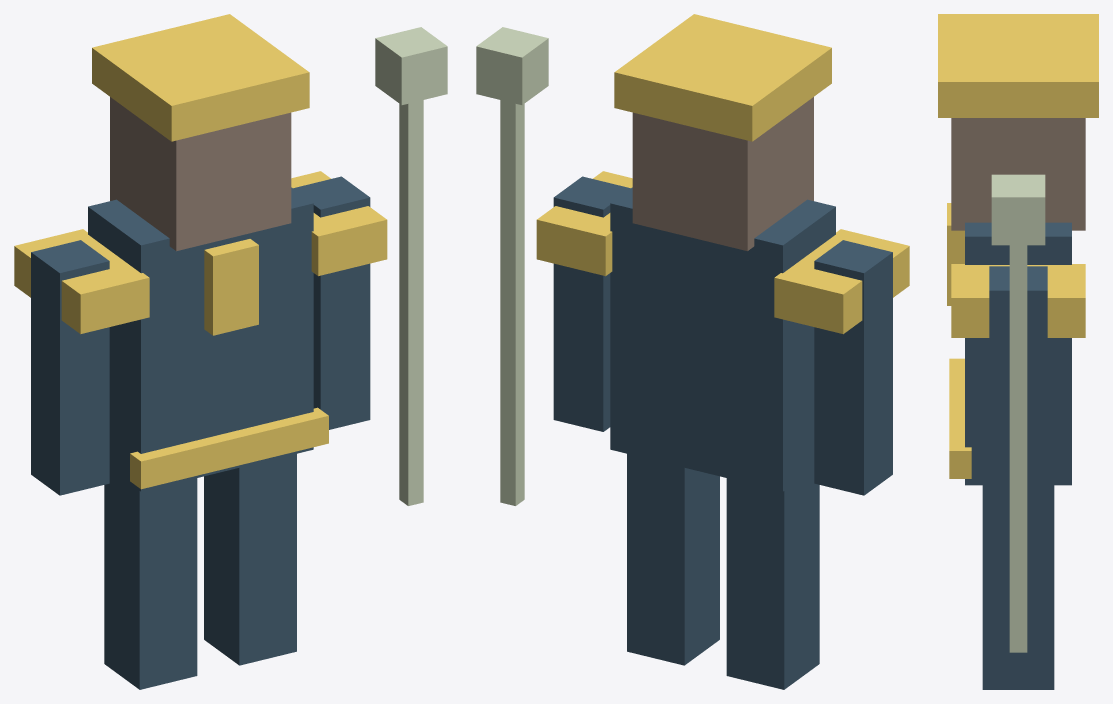
Rendered from 05_yara_cinderholt_watcher_of_kill.glb.
3 views of the same model, side by side, from view 1: azimuth 30°, elevation 25°; view 2: azimuth 150°, elevation 25°; view 3: azimuth 270°, elevation 25° (orthographic).
Visible parts, largest first — view 1: Yara Cinderholt, Watcher of Kill; view 2: Yara Cinderholt, Watcher of Kill; view 3: Yara Cinderholt, Watcher of Kill.
Boxes of the visible parts, x1,y1,x2,y2 form: Yara Cinderholt, Watcher of Kill: (14, 14, 447, 689); Yara Cinderholt, Watcher of Kill: (476, 14, 909, 689); Yara Cinderholt, Watcher of Kill: (938, 14, 1098, 689).
Size of the model in its own units: 1.07 by 1.57 by 0.3789.
